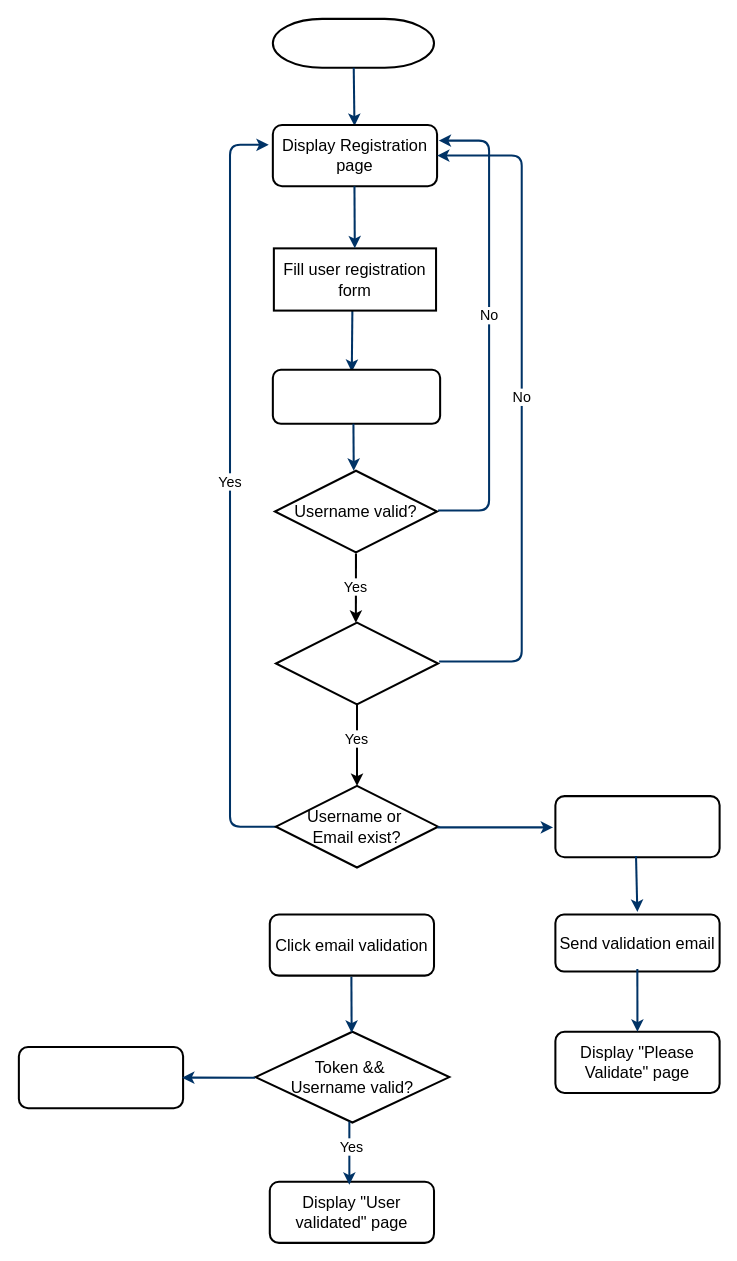
Some shapes in this 737 by 1261 pixel diagram are drawn without their labels. The centre of each missing label's shape, as x and y in pixels:
Create new user: point (637, 826)
Display "Error token" page: point (100, 1077)
Password valid?: point (356, 663)
Run SignUpCommand: point (356, 396)
Start: point (353, 42)
